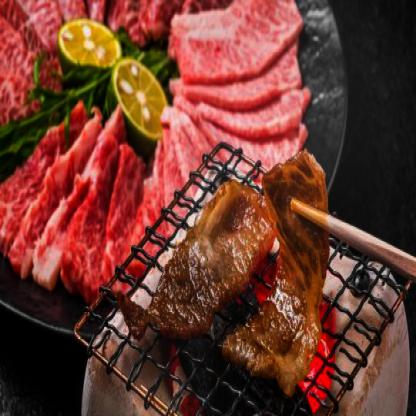Carne: (118, 176, 276, 341), (221, 156, 333, 387)
